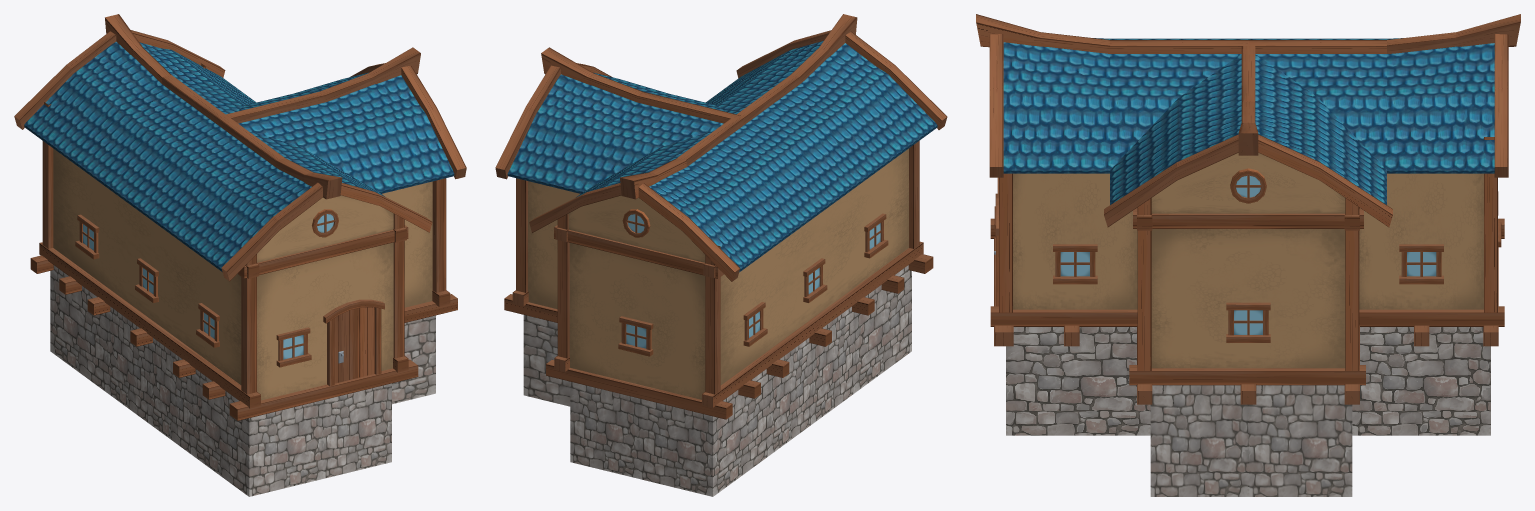
File: house_town_blue_1.glb
3 views of the same model, side by side, from view 1: azimuth 30°, elevation 25°; view 2: azimuth 150°, elevation 25°; view 3: azimuth 270°, elevation 25° (orthographic). The views are drawn at different scales.
Parts seen in each view (by area): view 1: house_town_blue_1_; view 2: house_town_blue_1_; view 3: house_town_blue_1_.
Part boxes in pixels (box(x1,y1,x2,y2)): house_town_blue_1_: box(14, 14, 466, 496); house_town_blue_1_: box(495, 14, 947, 496); house_town_blue_1_: box(976, 14, 1520, 496).
Bounding box in the file's own units: 12.04 × 11.99 × 15.73.
Materials: 1 (1 with a texture image).
